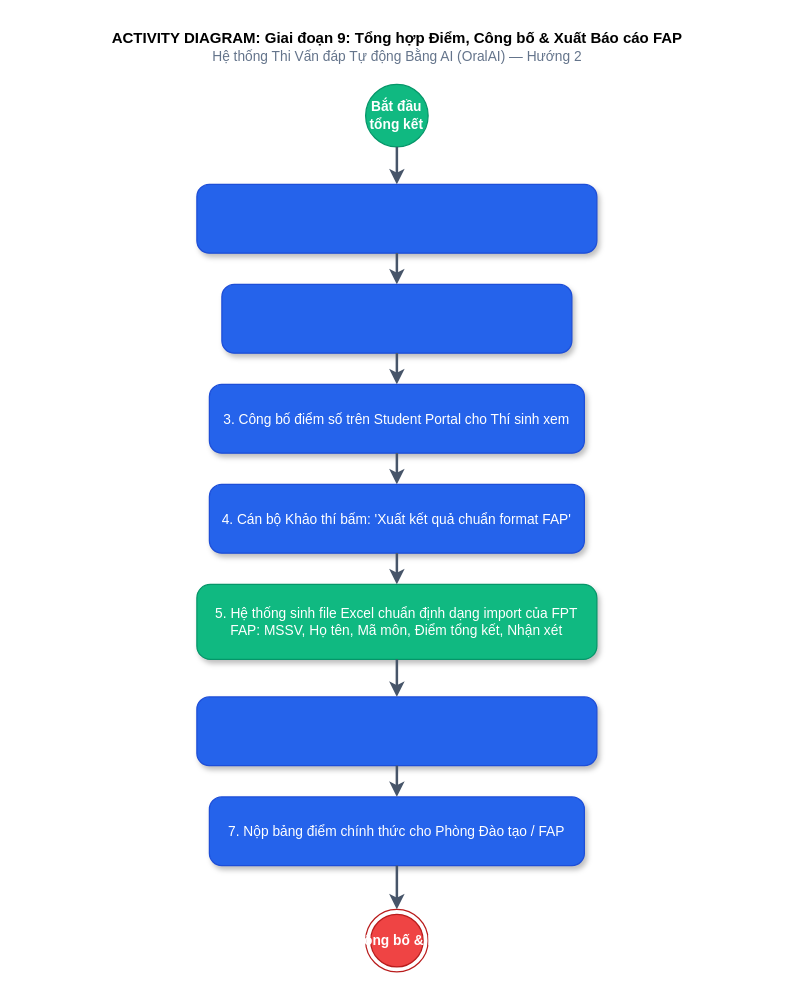
Image size: 793x994. Some labels were removed from this diagram. The centre of each missing label's shape, as x and y in pixels:
1. Hệ thống tính toán điểm tổng kết cuối cùng (final_results): point 397,220
2. Đóng băng bảng điểm ca thi & Khóa quyền chỉnh sửa: point 397,320
6. Ghi nhận vĩnh viễn Audit Log toàn bộ thao tác chấm & sửa điểm: point 397,732
